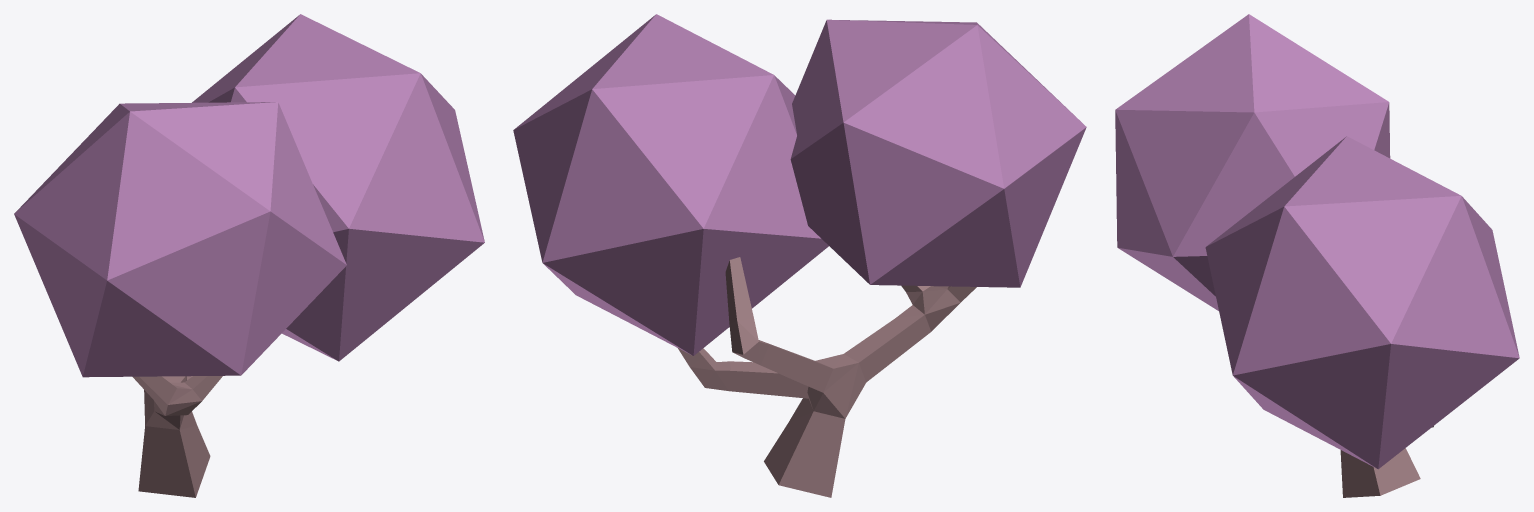
Rendered from bush2.fbx.
The picture shows the model from 3 angles, left to right: view 1: azimuth 30°, elevation 25°; view 2: azimuth 150°, elevation 25°; view 3: azimuth 270°, elevation 25°; orthographic projection. The views are drawn at different scales.
Visible parts, largest first — view 1: Icosphere, Cube.007; view 2: Icosphere, Cube.007; view 3: Icosphere, Cube.007.
Boxes of the visible parts, x1,y1,x2,y2 form: Icosphere: [14, 14, 484, 377]; Cube.007: [132, 376, 222, 497]; Icosphere: [513, 14, 1086, 355]; Cube.007: [677, 257, 976, 497]; Icosphere: [1115, 14, 1519, 469]; Cube.007: [1340, 426, 1433, 497].
Bounding box in the file's own units: 241 × 220 × 188.
